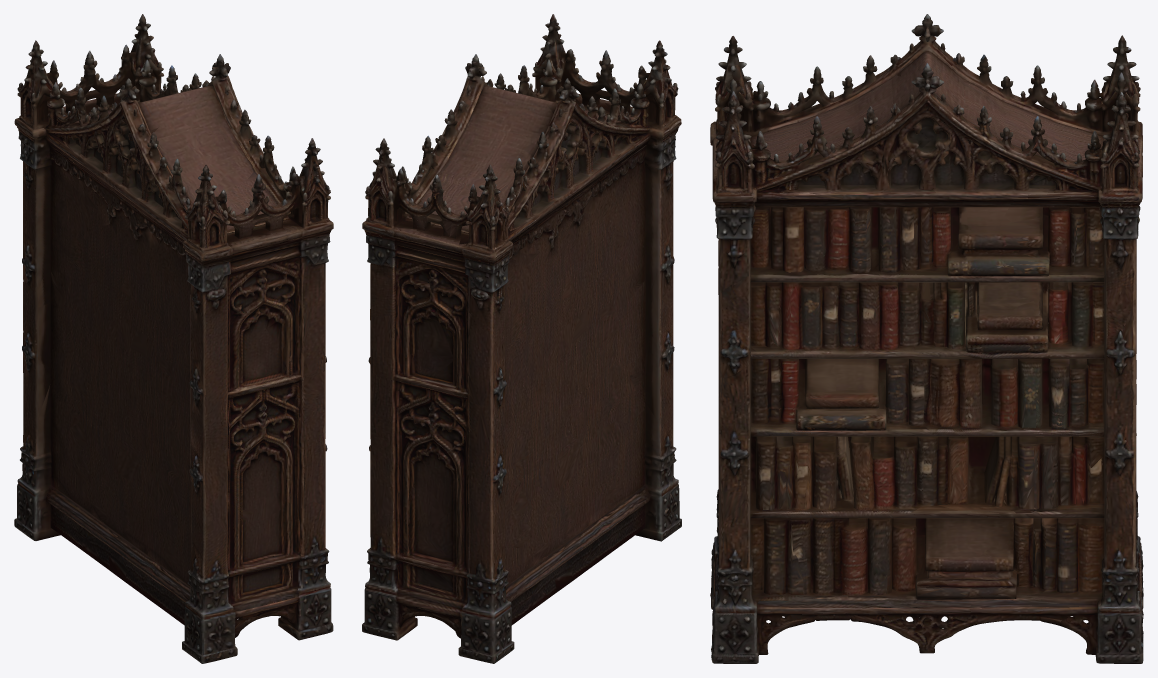
File: raw_shelf_ledgers.glb
The picture shows the model from 3 angles, left to right: view 1: azimuth 30°, elevation 25°; view 2: azimuth 150°, elevation 25°; view 3: azimuth 270°, elevation 25°; orthographic projection. The views are drawn at different scales.
Parts seen in each view (by area): view 1: shelf_ledgers; view 2: shelf_ledgers; view 3: shelf_ledgers.
Boxes of the visible parts, left/top/right/bottom form: shelf_ledgers: left=14, top=14, right=333, bottom=663; shelf_ledgers: left=362, top=14, right=681, bottom=663; shelf_ledgers: left=710, top=14, right=1143, bottom=663.
Bounding box in the file's own units: 0.272 × 1 × 0.6657.
1 material, 1 textured.
